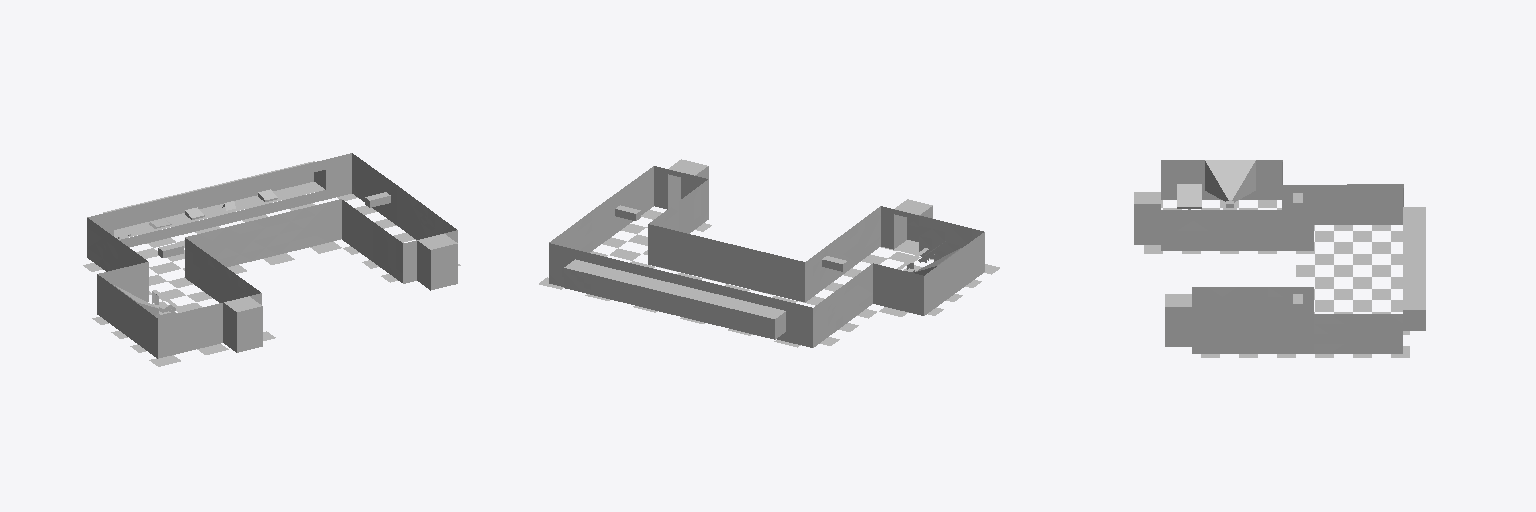
The model's file is _TOY.obj.
3 views of the same model, side by side, from view 1: azimuth 30°, elevation 25°; view 2: azimuth 150°, elevation 25°; view 3: azimuth 270°, elevation 25° (orthographic).
Parts seen in each view (by area): view 1: TMD object #0, VRAM page #5, TMD object #0, VRAM page #6, TMD object #0, untextured, TMD object #3, untextured, TMD object #2, untextured; view 2: TMD object #0, VRAM page #5, TMD object #0, VRAM page #6, TMD object #2, untextured, TMD object #3, untextured, TMD object #0, untextured, TMD object #2, VRAM page #5; view 3: TMD object #0, VRAM page #5, TMD object #3, untextured, TMD object #0, untextured, TMD object #0, VRAM page #6, TMD object #2, VRAM page #5.
Part boxes in pixels (x1,y1,x2,y2): TMD object #0, VRAM page #5: (87,153,457,348); TMD object #0, VRAM page #6: (87,184,426,358); TMD object #0, untextured: (112,192,457,352); TMD object #3, untextured: (83,194,460,366); TMD object #2, untextured: (114,170,325,239); TMD object #0, VRAM page #5: (549,166,984,337); TMD object #0, VRAM page #6: (549,196,984,347); TMD object #2, untextured: (564,268,785,339); TMD object #3, untextured: (539,210,999,347); TMD object #0, untextured: (616,159,961,275); TMD object #2, VRAM page #5: (564,259,785,318); TMD object #0, VRAM page #5: (1161,160,1403,343); TMD object #3, untextured: (1144,200,1409,357); TMD object #0, untextured: (1134,160,1302,346); TMD object #0, VRAM page #6: (1161,190,1402,353); TMD object #2, VRAM page #5: (1403,207,1425,309).
Size of the model in its own units: 253 by 30.69 by 193.